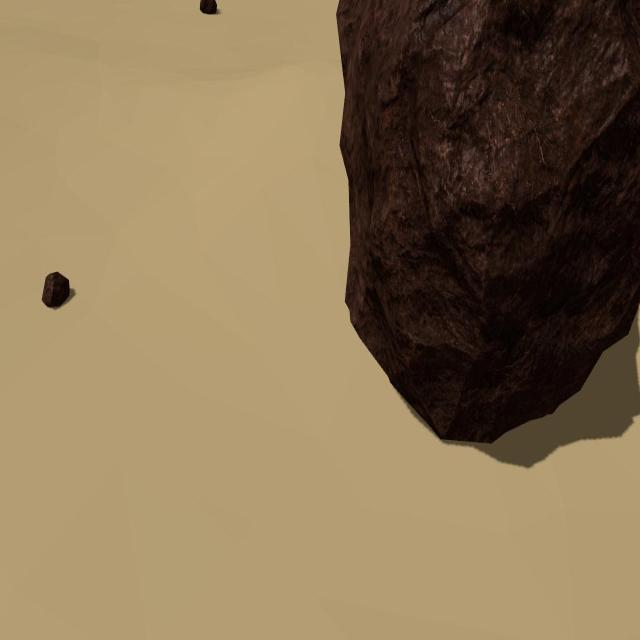rock: (336, 0, 640, 443), (42, 273, 70, 308), (200, 0, 217, 16)
